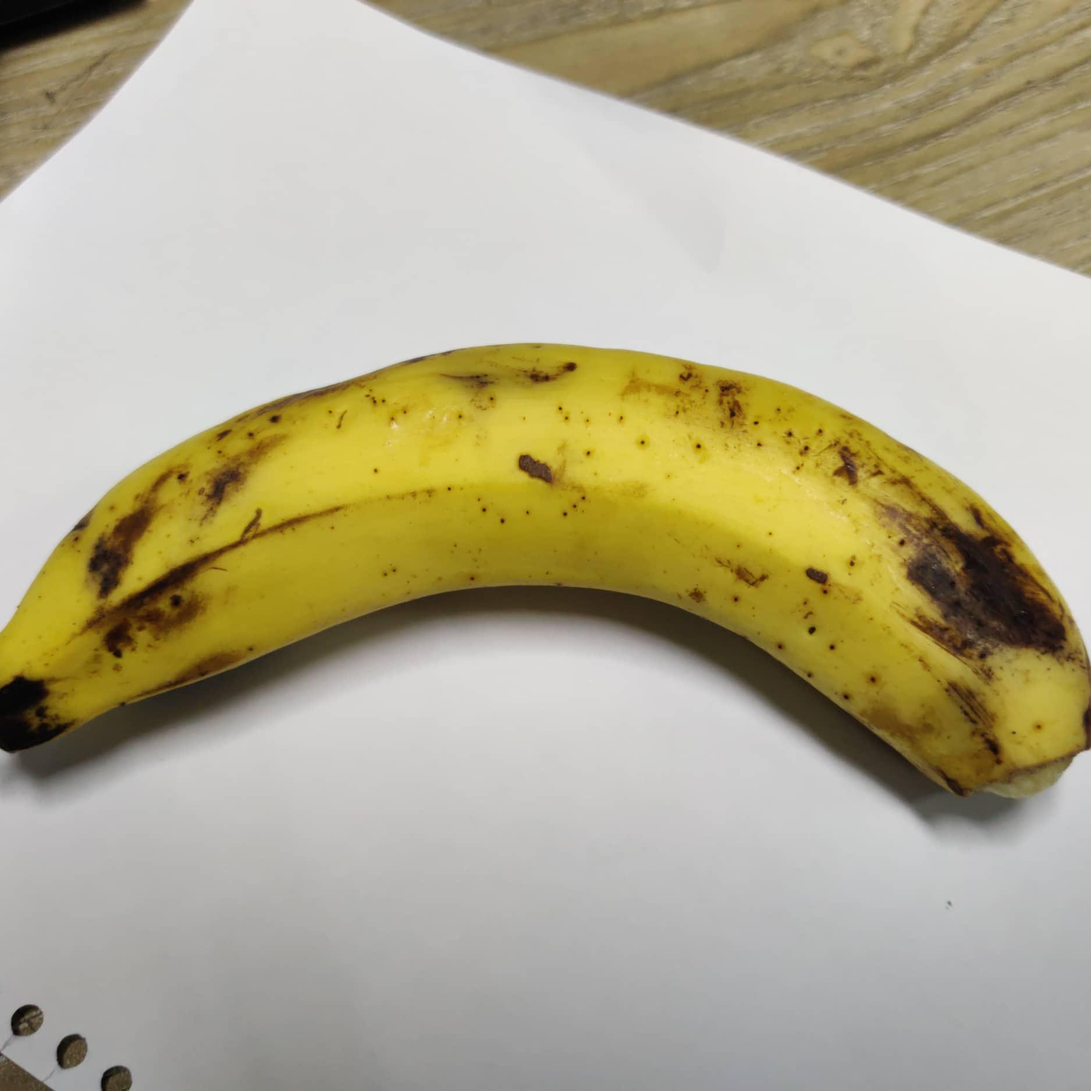Banana Ripe: (1, 326, 1091, 940)
